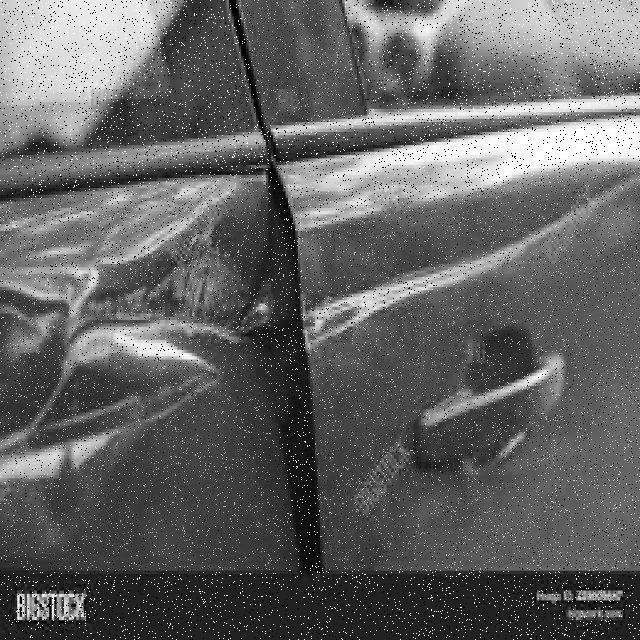doorouter-dent: (283, 142, 635, 574), (0, 170, 280, 579)
